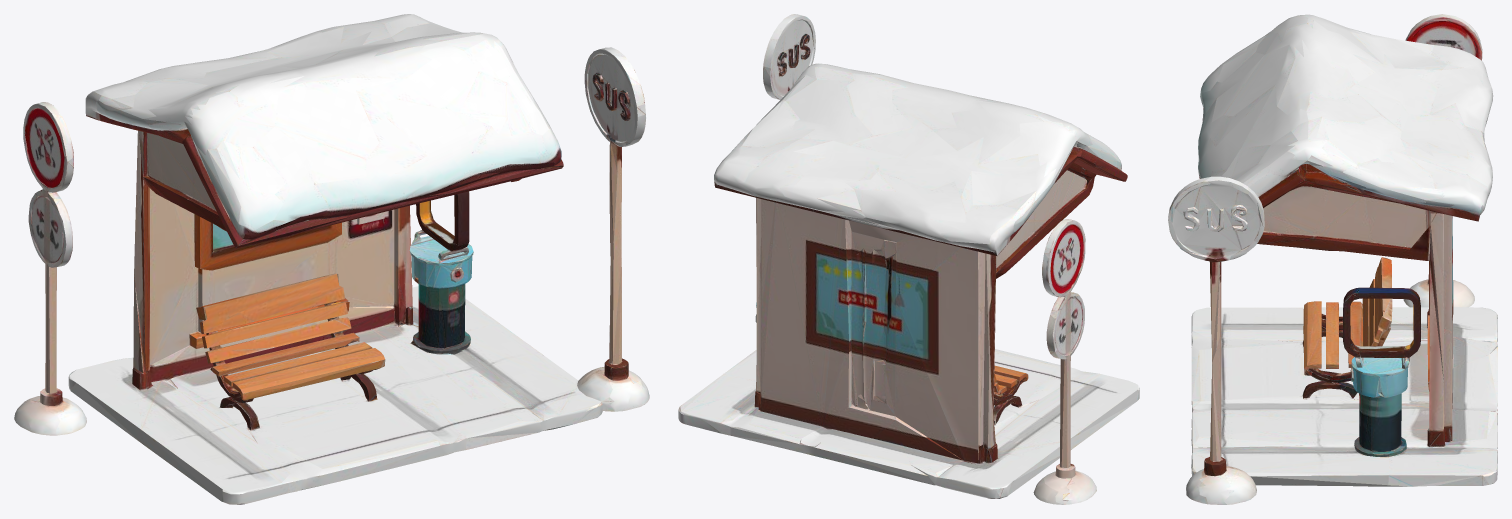
The model's file is busstop.glb.
3 renders of one model, left to right at view 1: azimuth 30°, elevation 25°; view 2: azimuth 150°, elevation 25°; view 3: azimuth 270°, elevation 25°, orthographic. The views are drawn at different scales.
Bounding box in the file's own units: 1.9 × 1.29 × 1.19.
Materials: 1 (1 with a texture image).
